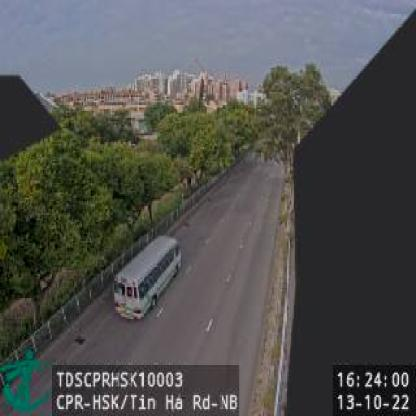Bus: (114, 232, 182, 322)
